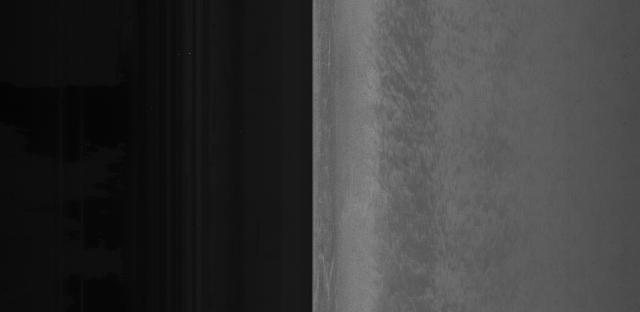silk_spot: (359, 62, 438, 230)
